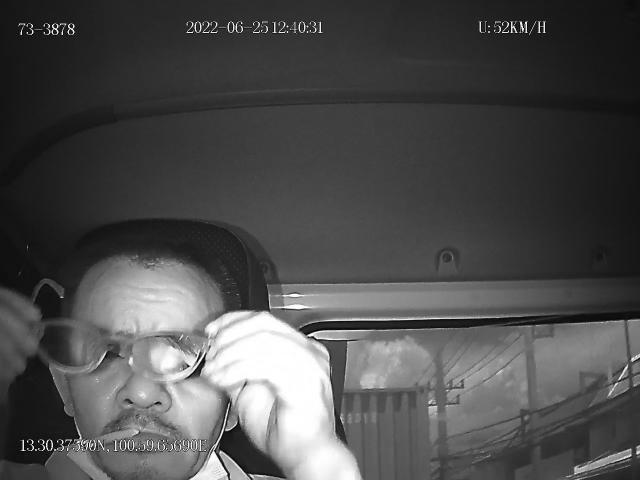Cigarette: (76, 429, 138, 451)
